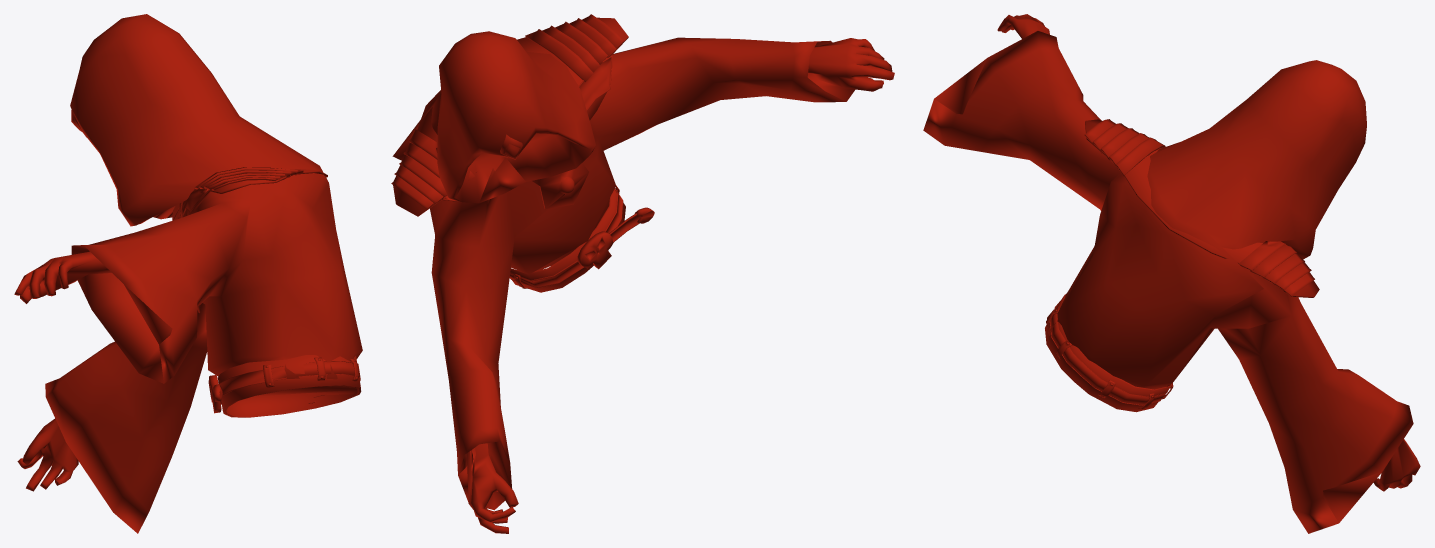
Rendered from top_000061.obj.
The picture shows the model from 3 angles, left to right: view 1: azimuth 30°, elevation 25°; view 2: azimuth 150°, elevation 25°; view 3: azimuth 270°, elevation 25°; orthographic projection. The views are drawn at different scales.
Parts seen in each view (by area): view 1: LowPoly_Warlock.000_Plane.005; view 2: LowPoly_Warlock.000_Plane.005; view 3: LowPoly_Warlock.000_Plane.005.
Boxes of the visible parts, box(x1,y1,x2,y2) form: LowPoly_Warlock.000_Plane.005: box(14, 14, 362, 533); LowPoly_Warlock.000_Plane.005: box(391, 14, 894, 533); LowPoly_Warlock.000_Plane.005: box(923, 14, 1420, 533).
Size of the model in its own units: 1.2 by 1.44 by 1.37.
